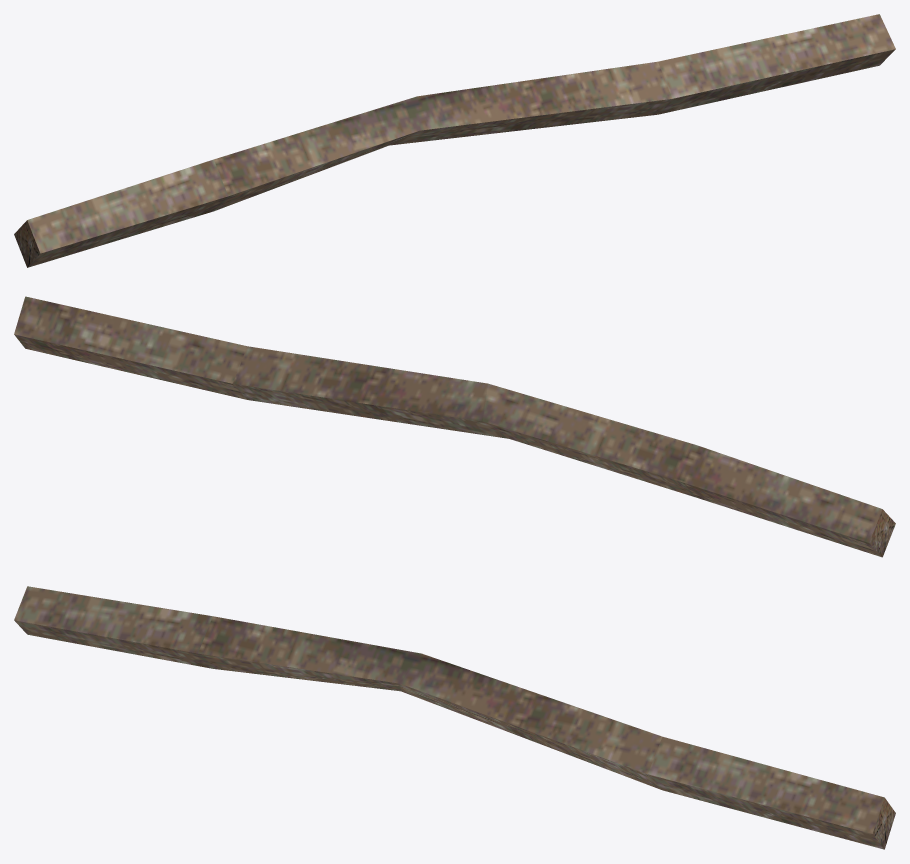
The model's file is Urban_WoodenFenceBeam_Model.fbx.
3 renders of one model, top to bottom at view 1: azimuth 30°, elevation 25°; view 2: azimuth 150°, elevation 25°; view 3: azimuth 330°, elevation 25°, orthographic.
Visible parts, largest first — view 1: Urban_WoodenFenceBeam_Mesh; view 2: Urban_WoodenFenceBeam_Mesh; view 3: Urban_WoodenFenceBeam_Mesh.
Boxes of the visible parts, x1,y1,x2,y2 form: Urban_WoodenFenceBeam_Mesh: (14,14,895,267); Urban_WoodenFenceBeam_Mesh: (14,296,895,557); Urban_WoodenFenceBeam_Mesh: (14,586,895,849).
Size of the model in its own units: 2 by 0.1785 by 0.1281.
